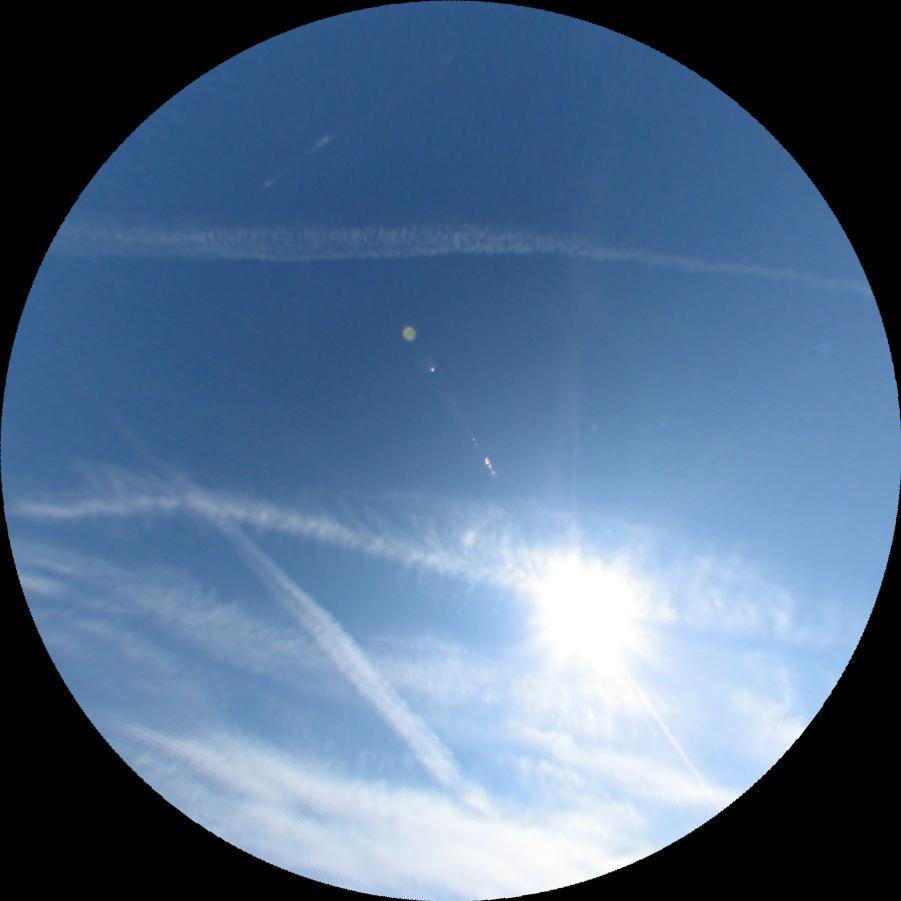contrail veryold: (1, 415, 879, 657), (104, 395, 502, 825), (48, 202, 876, 298)
parasite: (72, 240, 276, 409), (622, 668, 729, 807), (264, 131, 331, 189)
sun: (548, 567, 658, 685)
unknow: (572, 338, 582, 548)
